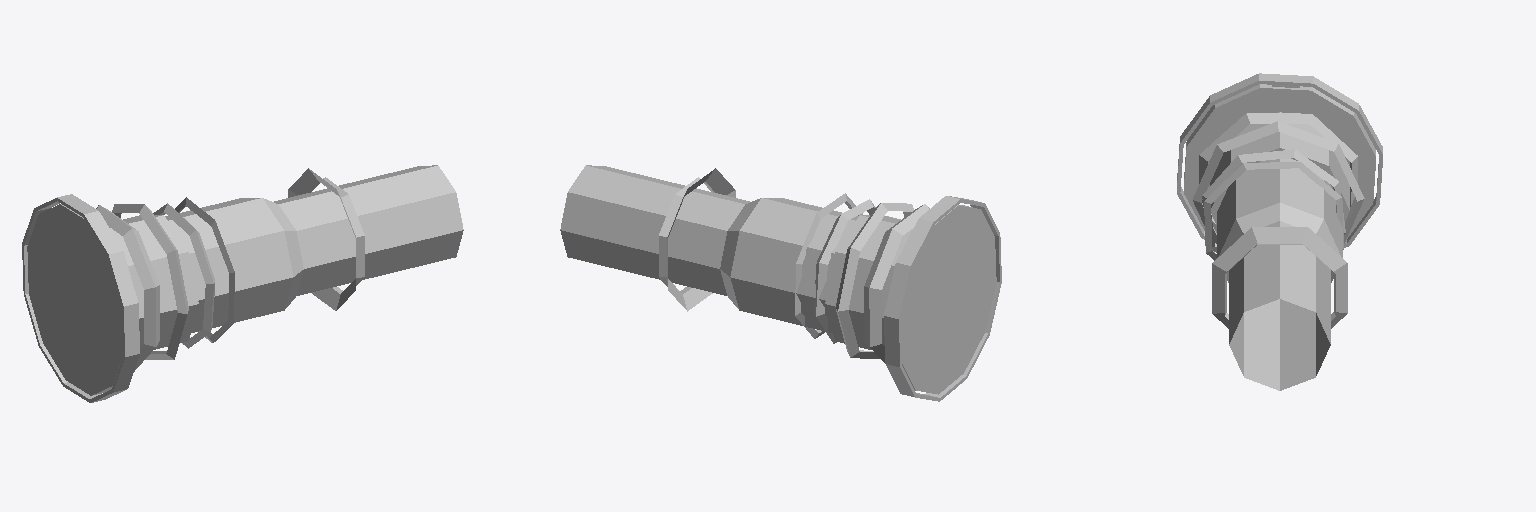
The model's file is magnetMesh.obj.
3 views of the same model, side by side, from view 1: azimuth 30°, elevation 25°; view 2: azimuth 150°, elevation 25°; view 3: azimuth 270°, elevation 25° (orthographic).
Parts seen in each view (by area): view 1: Circle.001; view 2: Circle.001; view 3: Circle.001.
Part boxes in pixels (bbox=[...]): Circle.001: bbox=[22, 165, 463, 402]; Circle.001: bbox=[560, 165, 1001, 401]; Circle.001: bbox=[1177, 73, 1382, 390].
Bounding box in the file's own units: 6.02 × 2.95 × 2.95.